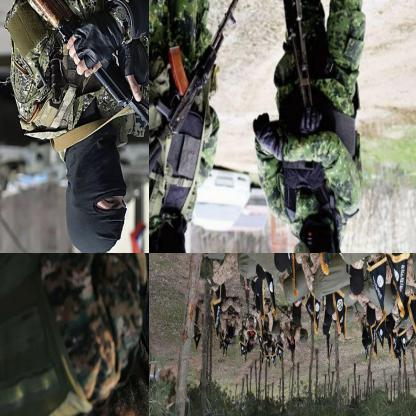rifle: (7, 0, 148, 171), (149, 0, 242, 184), (276, 0, 335, 130)
